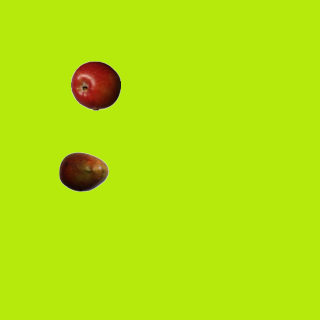Apple Braeburn: (70, 60, 120, 110)
Mango Red: (58, 146, 108, 196)
